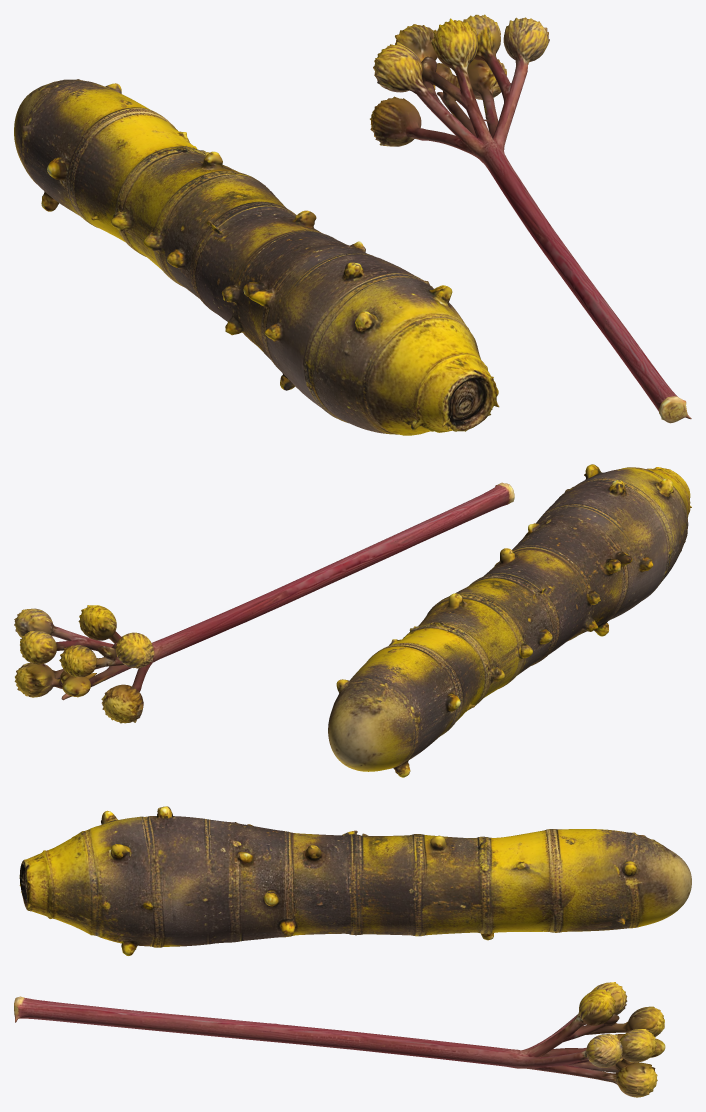
Rendered from tianma.glb.
3 renders of one model, top to bottom at view 1: azimuth 30°, elevation 25°; view 2: azimuth 150°, elevation 25°; view 3: azimuth 270°, elevation 25°, orthographic. The views are drawn at different scales.
Visible parts, largest first — view 1: node_0; view 2: node_0; view 3: node_0.
Part boxes in pixels (<box>): node_0: <box>14,14,691,435</box>; node_0: <box>14,464,691,777</box>; node_0: <box>14,806,691,1097</box>.
Bounding box in the file's own units: 0.7703 × 0.2306 × 1.05.
1 material, 1 textured.
